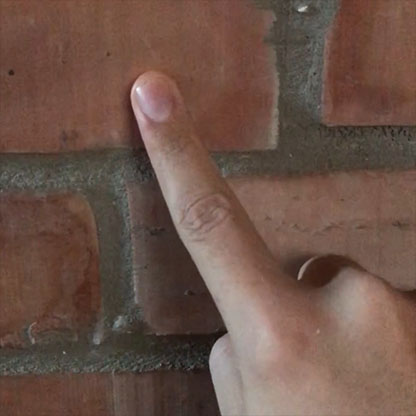fingertip: (122, 67, 188, 134)
